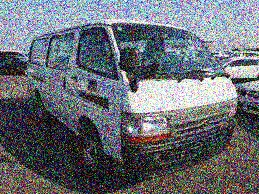van: (25, 21, 238, 176)
